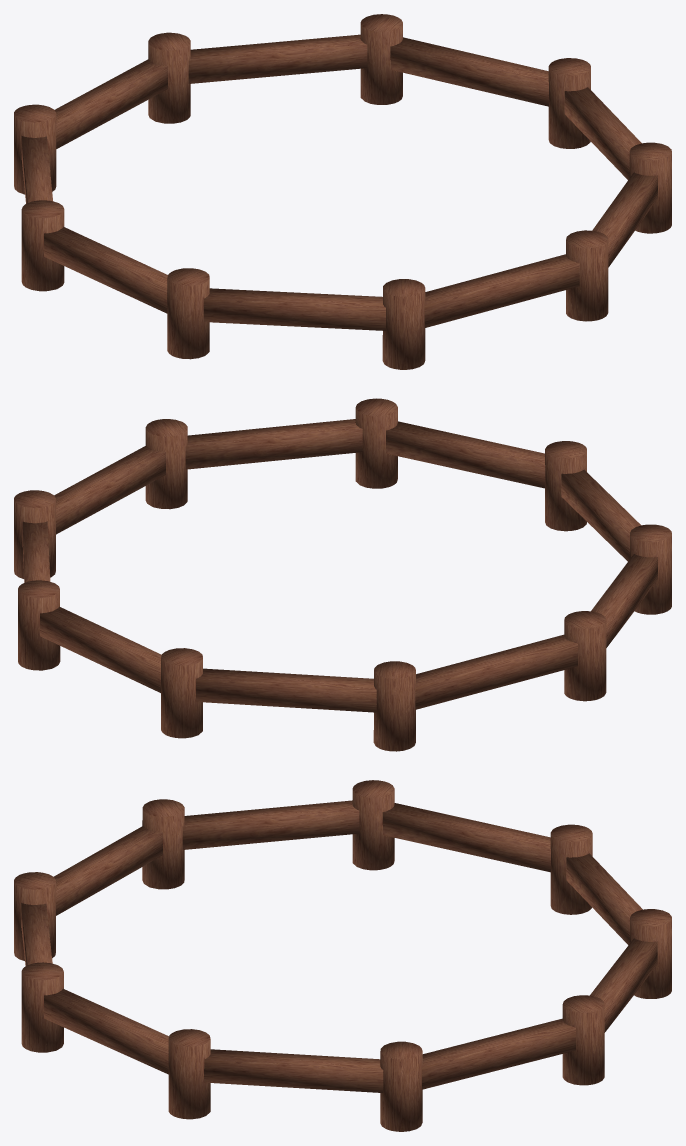
The model's file is fences.fbx.
3 views of the same model, one above another, from view 1: azimuth 30°, elevation 25°; view 2: azimuth 150°, elevation 25°; view 3: azimuth 270°, elevation 25° (orthographic).
Visible parts, largest first — view 1: Fence.019, Fence.023, Fence.018, Fence.015, Fence.020, Fence.014, Fence.016, Fence.017, Fence.022; view 2: Fence.014, Fence.022, Fence.017, Fence.018, Fence.023, Fence.016, Fence.019, Fence.020, Fence.015; view 3: Fence.016, Fence.022, Fence.020, Fence.015, Fence.017, Fence.019, Fence.014, Fence.023, Fence.018.
Boxes of the visible parts, bbox=[...] form: Fence.019: bbox=[203, 279, 425, 369]; Fence.023: bbox=[148, 32, 367, 123]; Fence.018: bbox=[424, 230, 608, 327]; Fence.015: bbox=[360, 14, 548, 106]; Fence.020: bbox=[44, 226, 209, 359]; Fence.014: bbox=[14, 59, 167, 194]; Fence.016: bbox=[548, 58, 641, 179]; Fence.017: bbox=[592, 142, 671, 267]; Fence.022: bbox=[21, 136, 64, 291]; Fence.014: bbox=[196, 661, 415, 751]; Fence.022: bbox=[415, 611, 606, 709]; Fence.017: bbox=[145, 419, 362, 509]; Fence.018: bbox=[355, 398, 545, 488]; Fence.023: bbox=[40, 606, 202, 738]; Fence.016: bbox=[14, 445, 165, 578]; Fence.019: bbox=[545, 441, 641, 561]; Fence.020: bbox=[591, 524, 671, 647]; Fence.015: bbox=[18, 521, 60, 670]; Fence.016: bbox=[204, 1041, 422, 1131]; Fence.022: bbox=[352, 780, 550, 872]; Fence.020: bbox=[142, 799, 359, 889]; Fence.015: bbox=[422, 995, 604, 1089]; Fence.017: bbox=[44, 988, 210, 1119]; Fence.019: bbox=[14, 826, 162, 960]; Fence.014: bbox=[550, 824, 642, 944]; Fence.023: bbox=[590, 909, 671, 1032]; Fence.018: bbox=[21, 903, 63, 1052].
Bounding box in the file's own units: 945 × 114 × 941.
